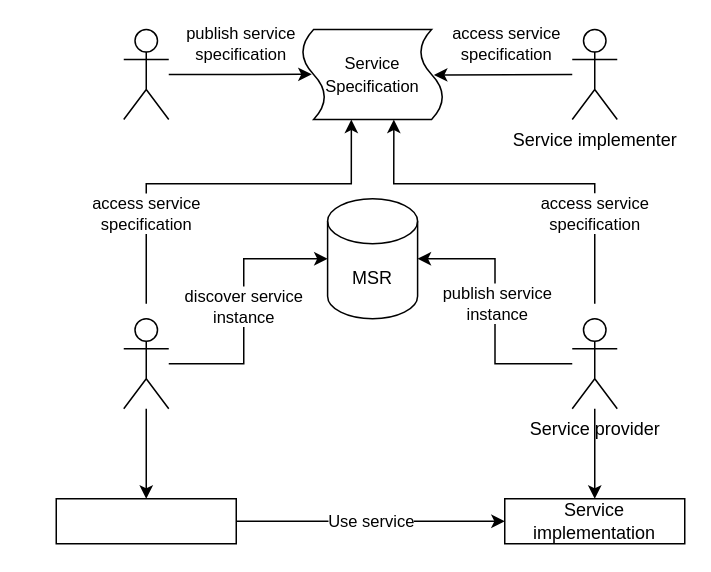
The diagram is 711 pixels wide and 572 high, and some of its shapes have lost their labels. Each missing label, with the centre of its shape:
Service consumer: the point at 145,363
Service consumption implementation: the point at 145,520
Service specification producer: the point at 145,74
